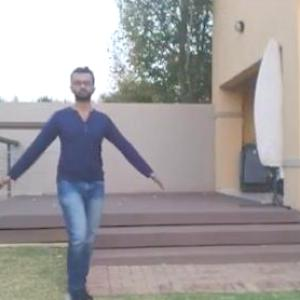land: (9, 77, 154, 299)
